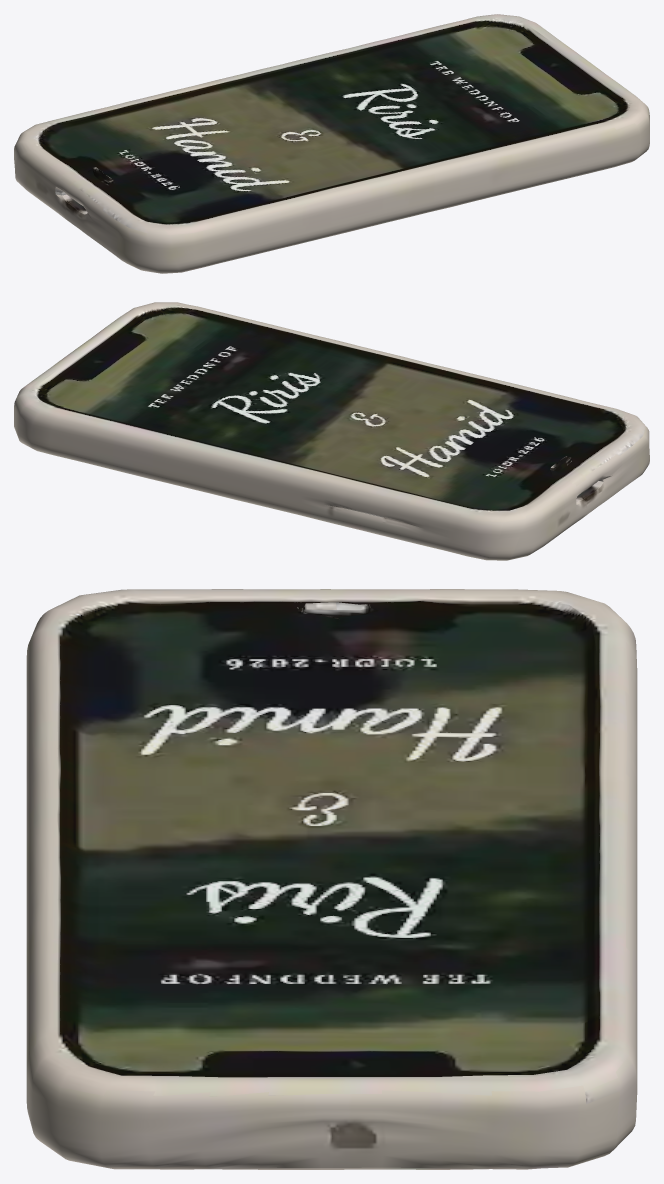
File: Phone.glb
3 renders of one model, top to bottom at view 1: azimuth 30°, elevation 25°; view 2: azimuth 150°, elevation 25°; view 3: azimuth 270°, elevation 25°, orthographic. The views are drawn at different scales.
Visible parts, largest first — view 1: Mesh_0; view 2: Mesh_0; view 3: Mesh_0.
Boxes of the visible parts, x1=… form: Mesh_0: x1=14, y1=14, x2=649, y2=273; Mesh_0: x1=14, y1=302, x2=649, y2=560; Mesh_0: x1=26, y1=589, x2=637, y2=1169.
Bounding box in the file's own units: 1.99 × 0.1787 × 1.01.
Materials: 1 (1 with a texture image).
